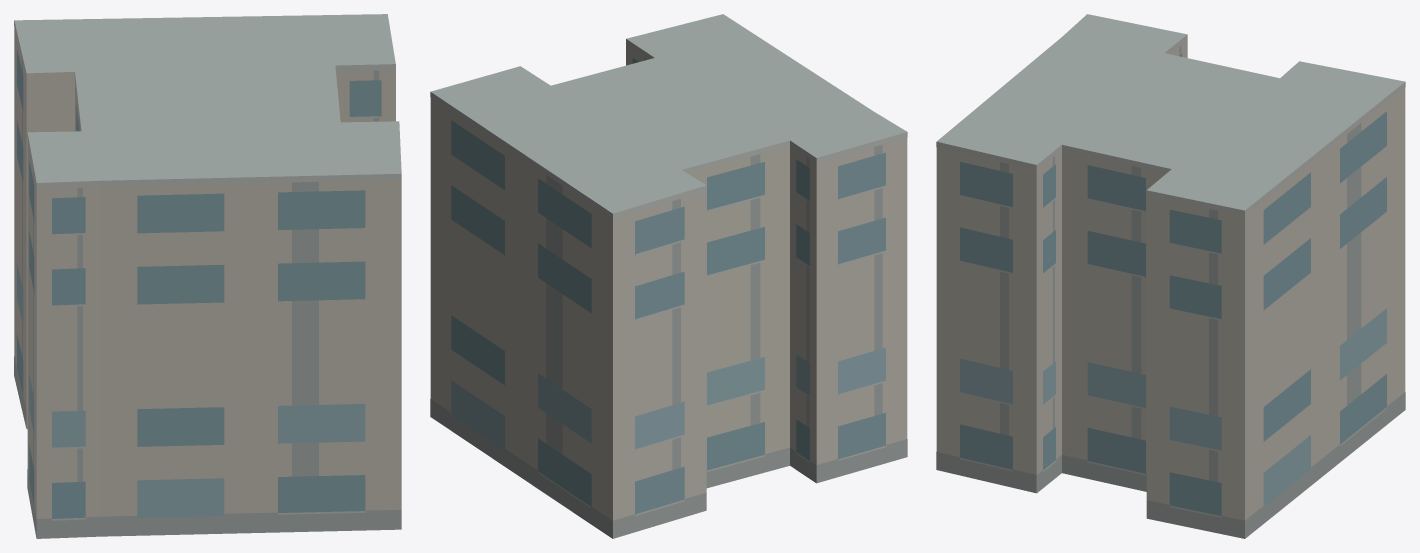
Rendered from survey-upis-33009816.glb.
The picture shows the model from 3 angles, left to right: view 1: azimuth 30°, elevation 25°; view 2: azimuth 150°, elevation 25°; view 3: azimuth 270°, elevation 25°; orthographic projection. The views are drawn at different scales.
Parts seen in each view (by area): view 1: survey-upis-33009816.tmp; view 2: survey-upis-33009816.tmp; view 3: survey-upis-33009816.tmp.
Boxes of the visible parts, x1=… form: survey-upis-33009816.tmp: x1=14, y1=14, x2=401, y2=538; survey-upis-33009816.tmp: x1=430, y1=14, x2=907, y2=538; survey-upis-33009816.tmp: x1=936, y1=14, x2=1405, y2=538.
Bounding box in the file's own units: 18.24 × 14.2 × 18.39.
